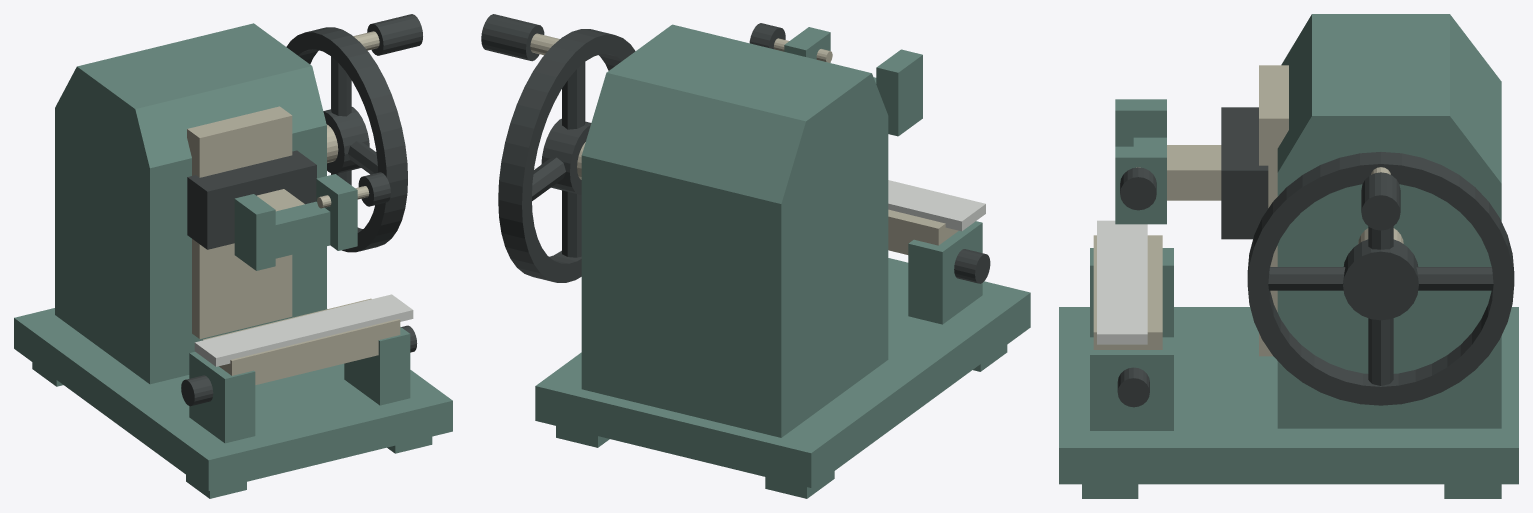
3 views of the same model, side by side, from view 1: azimuth 30°, elevation 25°; view 2: azimuth 150°, elevation 25°; view 3: azimuth 270°, elevation 25° (orthographic). The views are drawn at different scales.
Visible parts, largest first — view 1: WholeCompactDriveHousing, WholeFootedBase, WholeVerticalGuide, WholeHandwheelRim, WholeOpenSpecimenClamp, WholeFrontSlidingCarriage, WholeFiniteBluntDisplayPlate, WholeTransverseHolderBridge, WholeLeftHolderCheek, WholeRightHolderCheek, WholeHandwheelHub, WholeEccentricGrip (+5 smaller); view 2: WholeCompactDriveHousing, WholeFootedBase, WholeHandwheelRim, WholeLeftHolderCheek, WholeOpenSpecimenClamp, WholeFiniteBluntDisplayPlate, WholeEccentricGrip, WholeHandwheelHub, WholeTransverseHolderBridge, WholeWheelSpoke1, WholeWheelSpoke3, WholeLeftHolderKnob (+2 smaller); view 3: WholeCompactDriveHousing, WholeFootedBase, WholeHandwheelRim, WholeFiniteBluntDisplayPlate, WholeRightHolderCheek, WholeFrontSlidingCarriage, WholeOpenSpecimenClamp, WholeHandwheelHub, WholeVerticalGuide, WholeForwardClampCarrier, WholeTransverseHolderBridge, WholeEccentricGrip (+7 smaller).
Boxes of the visible parts, x1=… form: WholeCompactDriveHousing: x1=55, y1=23, x2=326, y2=384; WholeFootedBase: x1=14, y1=308, x2=452, y2=498; WholeVerticalGuide: x1=187, y1=106, x2=292, y2=338; WholeHandwheelRim: x1=286, y1=27, x2=407, y2=252; WholeOpenSpecimenClamp: x1=234, y1=174, x2=357, y2=270; WholeFrontSlidingCarriage: x1=187, y1=150, x2=316, y2=249; WholeFiniteBluntDisplayPlate: x1=194, y1=294, x2=413, y2=366; WholeTransverseHolderBridge: x1=202, y1=298, x2=400, y2=384; WholeLeftHolderCheek: x1=189, y1=352, x2=255, y2=443; WholeRightHolderCheek: x1=344, y1=327, x2=410, y2=405; WholeHandwheelHub: x1=323, y1=107, x2=369, y2=173; WholeEccentricGrip: x1=367, y1=14, x2=422, y2=55; WholeCompactDriveHousing: x1=581, y1=24, x2=888, y2=437; WholeFootedBase: x1=535, y1=258, x2=1030, y2=498; WholeHandwheelRim: x1=498, y1=29, x2=635, y2=282; WholeLeftHolderCheek: x1=908, y1=221, x2=982, y2=324; WholeOpenSpecimenClamp: x1=784, y1=27, x2=922, y2=136; WholeFiniteBluntDisplayPlate: x1=888, y1=180, x2=985, y2=231; WholeEccentricGrip: x1=481, y1=14, x2=544, y2=61; WholeHandwheelHub: x1=541, y1=118, x2=591, y2=194; WholeTransverseHolderBridge: x1=888, y1=209, x2=958, y2=254; WholeWheelSpoke1: x1=562, y1=62, x2=585, y2=129; WholeWheelSpoke3: x1=562, y1=190, x2=581, y2=257; WholeLeftHolderKnob: x1=954, y1=249, x2=990, y2=283; WholeCompactDriveHousing: x1=1277, y1=14, x2=1501, y2=428; WholeFootedBase: x1=1059, y1=307, x2=1518, y2=498; WholeHandwheelRim: x1=1247, y1=152, x2=1514, y2=405; WholeFiniteBluntDisplayPlate: x1=1097, y1=220, x2=1147, y2=344; WholeRightHolderCheek: x1=1090, y1=337, x2=1173, y2=430; WholeFrontSlidingCarriage: x1=1221, y1=107, x2=1268, y2=239; WholeOpenSpecimenClamp: x1=1115, y1=99, x2=1166, y2=224; WholeHandwheelHub: x1=1343, y1=239, x2=1418, y2=320; WholeVerticalGuide: x1=1259, y1=65, x2=1288, y2=356; WholeForwardClampCarrier: x1=1167, y1=145, x2=1221, y2=200; WholeTransverseHolderBridge: x1=1093, y1=235, x2=1162, y2=349; WholeEccentricGrip: x1=1361, y1=172, x2=1400, y2=230.
Bounding box in the file's own units: 0.4065 × 0.355 × 0.4.
